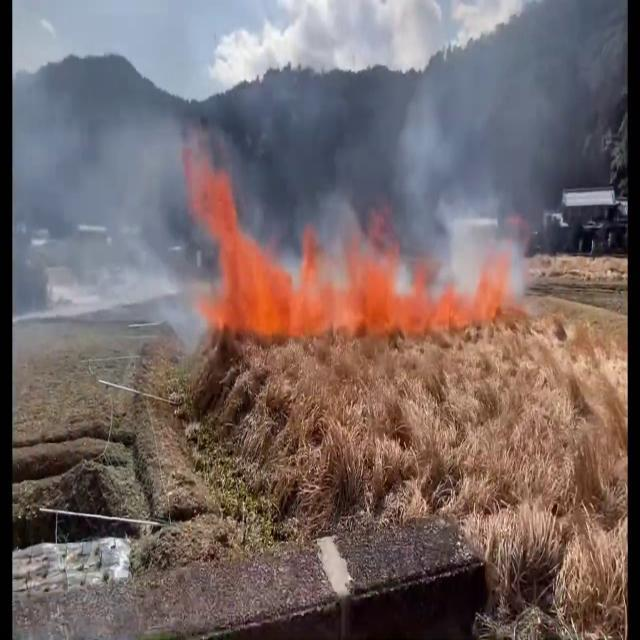Fire: (188, 176, 432, 339), (408, 250, 518, 338)
Smoke: (358, 4, 630, 282), (21, 19, 222, 369)
